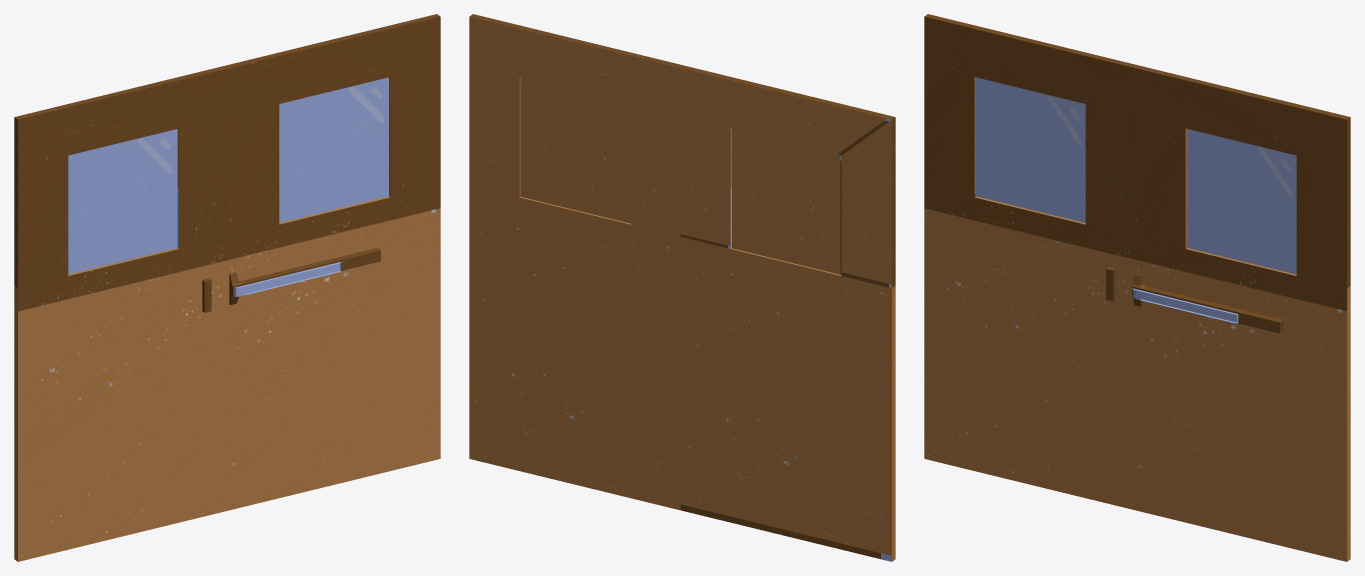
Rendered from Door.fbx.
3 renders of one model, left to right at view 1: azimuth 30°, elevation 25°; view 2: azimuth 150°, elevation 25°; view 3: azimuth 330°, elevation 25°, orthographic.
Visible parts, largest first — view 1: 立方體.002, 立方體.001; view 2: 立方體.002, 立方體.001; view 3: 立方體.001, 立方體.002.
Part boxes in pixels (<box>): 立方體.002: <box>14,65,229,561</box>; 立方體.001: <box>226,14,440,510</box>; 立方體.002: <box>680,65,895,561</box>; 立方體.001: <box>469,14,683,510</box>; 立方體.001: <box>1132,65,1350,561</box>; 立方體.002: <box>924,14,1138,510</box>.
Size of the model in its own units: 200 by 200 by 7.5.
